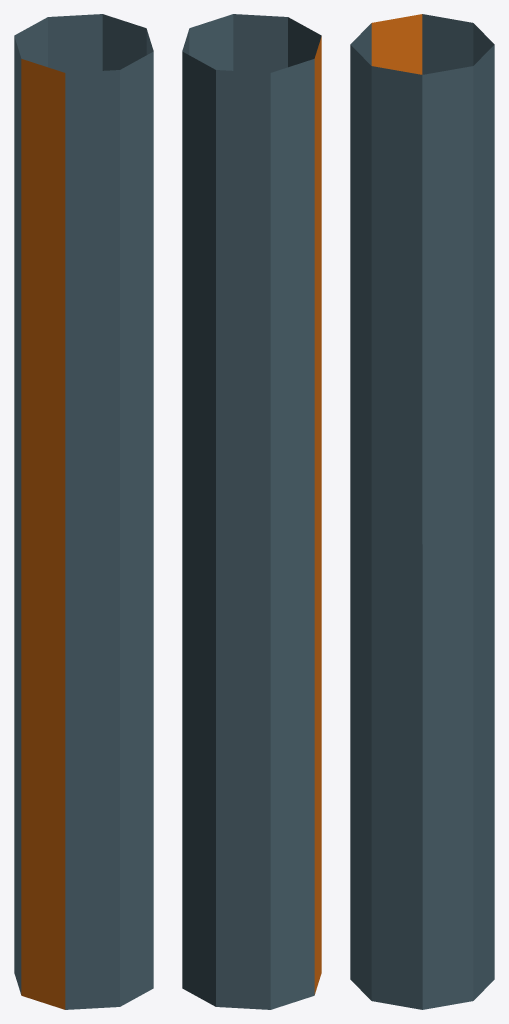
The model's file is Pipe 4.fbx.
The picture shows the model from 3 angles, left to right: view 1: azimuth 30°, elevation 25°; view 2: azimuth 150°, elevation 25°; view 3: azimuth 270°, elevation 25°; orthographic projection.
Parts seen in each view (by area): view 1: Cylinder.015; view 2: Cylinder.015; view 3: Cylinder.015.
Boxes of the visible parts, left/top/right/bottom form: Cylinder.015: left=14, top=14, right=153, bottom=1009; Cylinder.015: left=182, top=14, right=321, bottom=1009; Cylinder.015: left=350, top=14, right=494, bottom=1009.
Size of the model in its own units: 0.0749 by 0.5358 by 0.0749.
